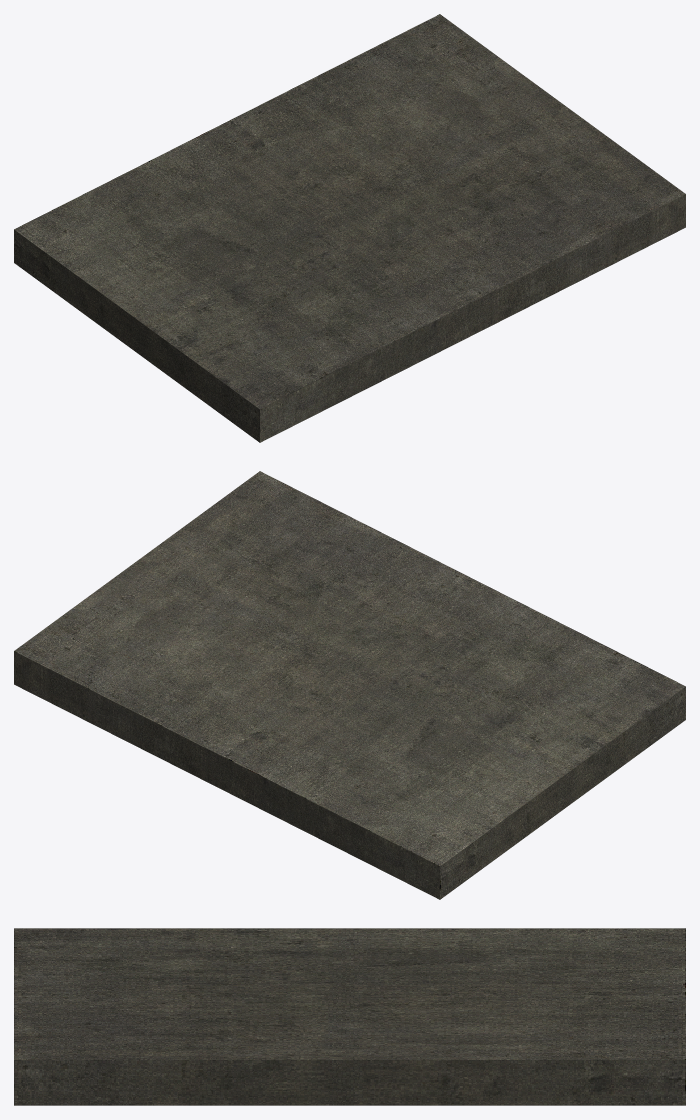
The model's file is floor_ceiling_hs_2.glb.
3 renders of one model, top to bottom at view 1: azimuth 30°, elevation 25°; view 2: azimuth 150°, elevation 25°; view 3: azimuth 270°, elevation 25°, orthographic. The views are drawn at different scales.
Parts seen in each view (by area): view 1: floor_ceiling_hs_2; view 2: floor_ceiling_hs_2; view 3: floor_ceiling_hs_2.
Boxes of the visible parts, <box> form: floor_ceiling_hs_2: <box>14,14,685,442</box>; floor_ceiling_hs_2: <box>14,471,685,899</box>; floor_ceiling_hs_2: <box>14,928,685,1105</box>.
Bounding box in the file's own units: 4 × 1.3 × 4.
Materials: 1 (1 with a texture image).
